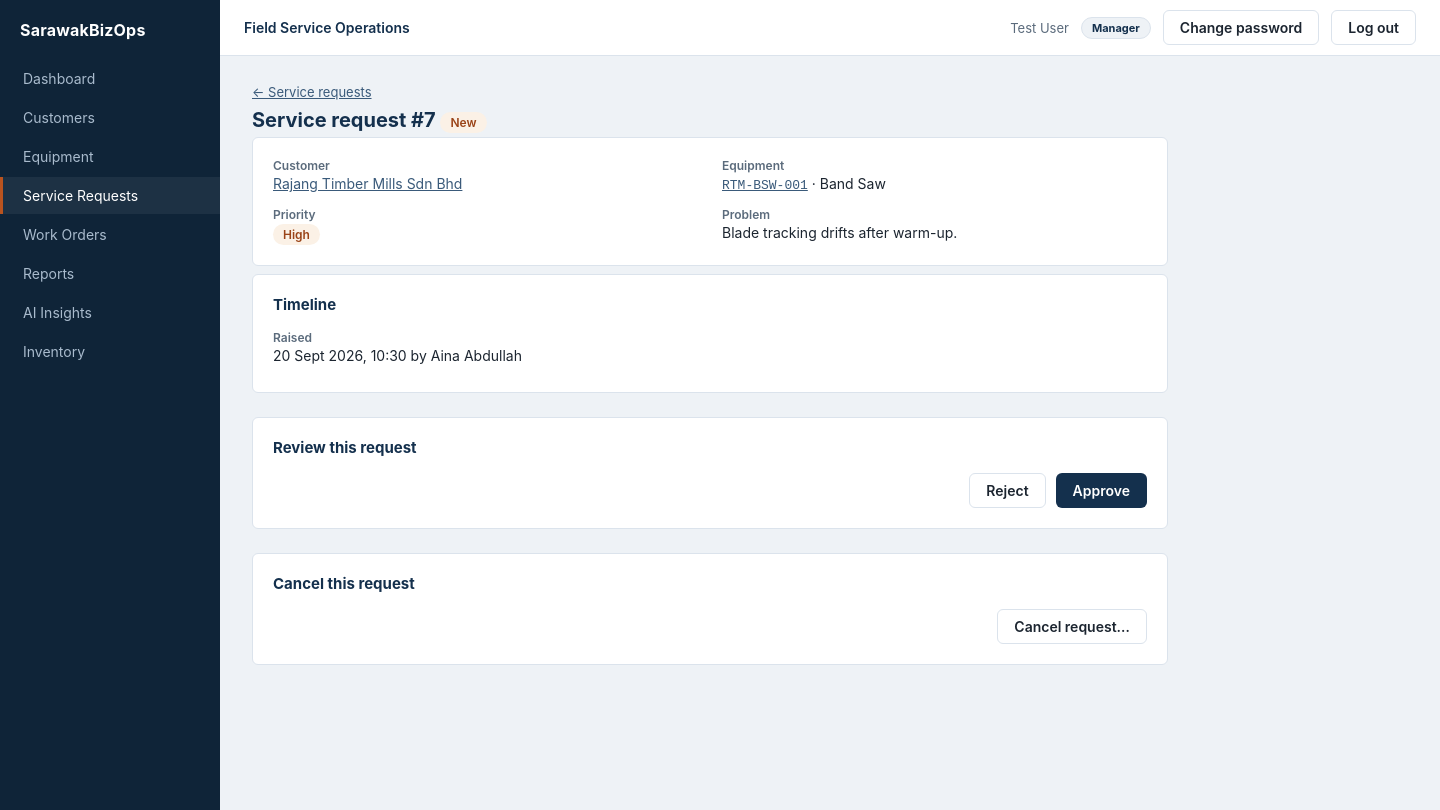
Test: Reviewing a request › shows the conflict message and refreshes when someone else already decided
This screenshot has width=1440, height=810.
Click the button "Approve" at (1101, 490), box [1056,473,1147,508]
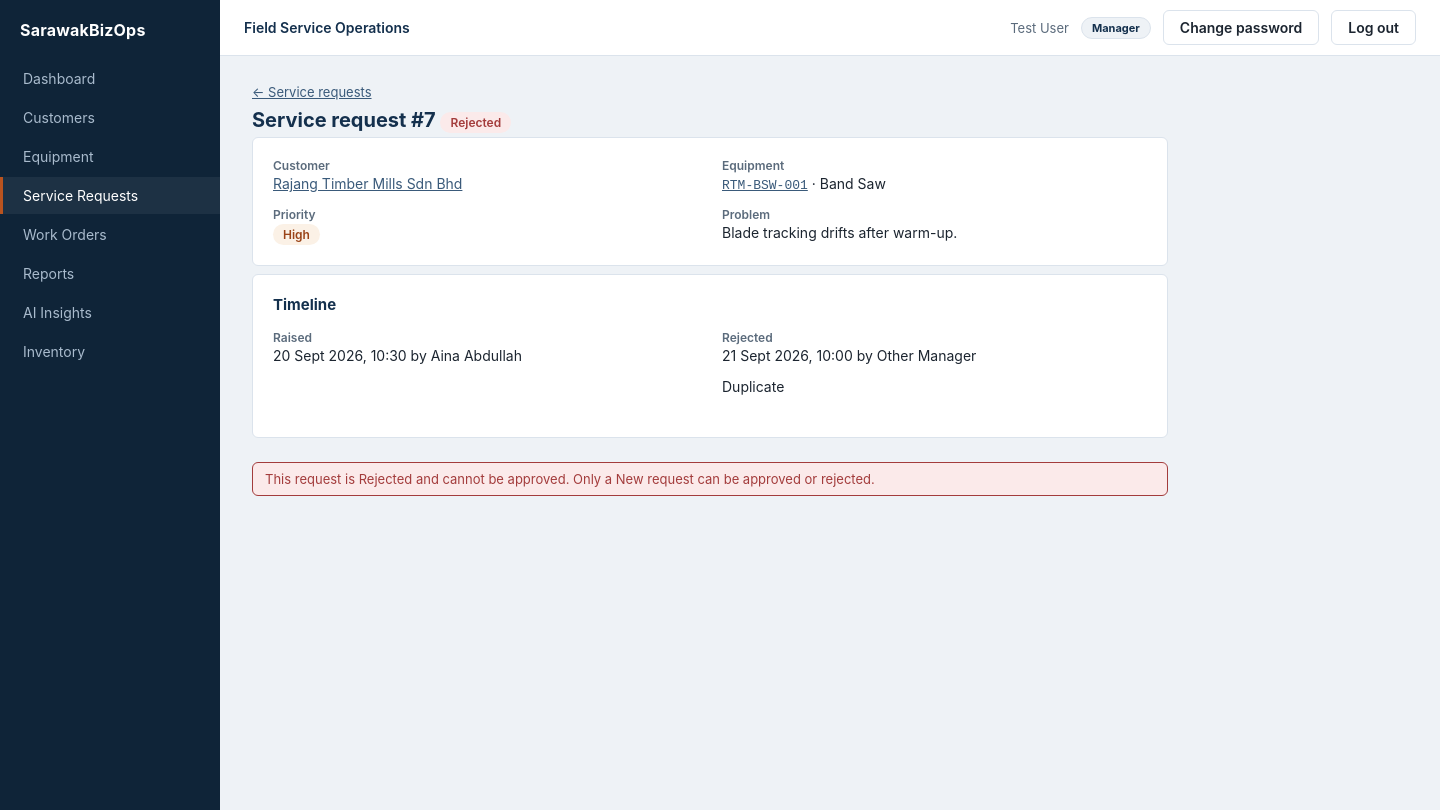
Result: the message shows "This request is Rejected and cannot be approved" at [265,471,875,487]
Result: the text "Duplicate" is shown at [722,378,784,395]
